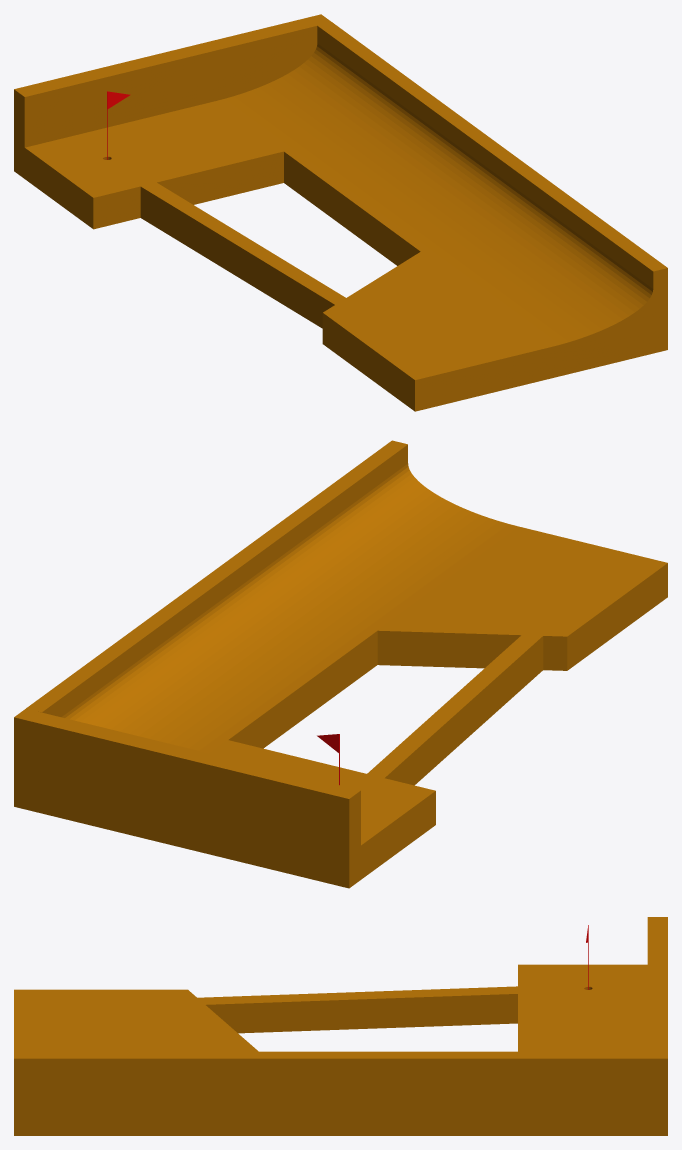
The model's file is level_12.glb.
3 views of the same model, one above another, from view 1: azimuth 30°, elevation 25°; view 2: azimuth 150°, elevation 25°; view 3: azimuth 270°, elevation 25° (orthographic). The views are drawn at different scales.
Visible parts, largest first — view 1: green; view 2: green; view 3: green.
Part boxes in pixels (bbox=[...]): green: bbox=[14, 14, 667, 411]; green: bbox=[14, 440, 667, 888]; green: bbox=[14, 917, 667, 1135].
Size of the model in its own units: 3.92 by 1.2 by 7.67.
